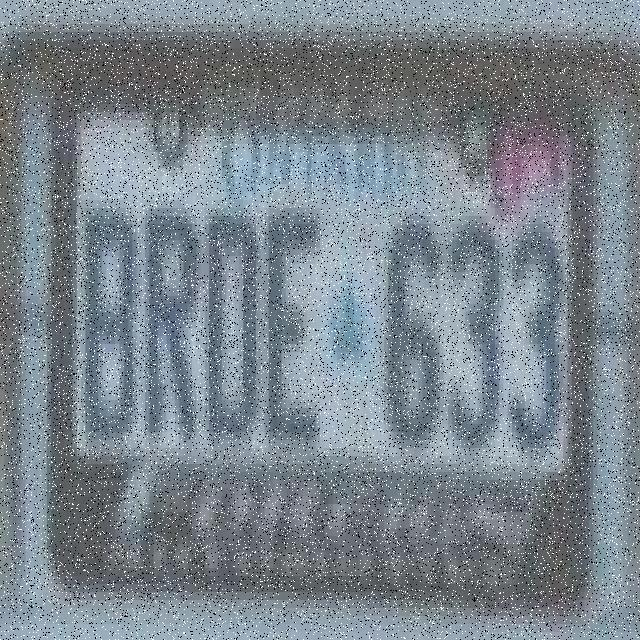LicensePlate: (48, 56, 598, 600)
